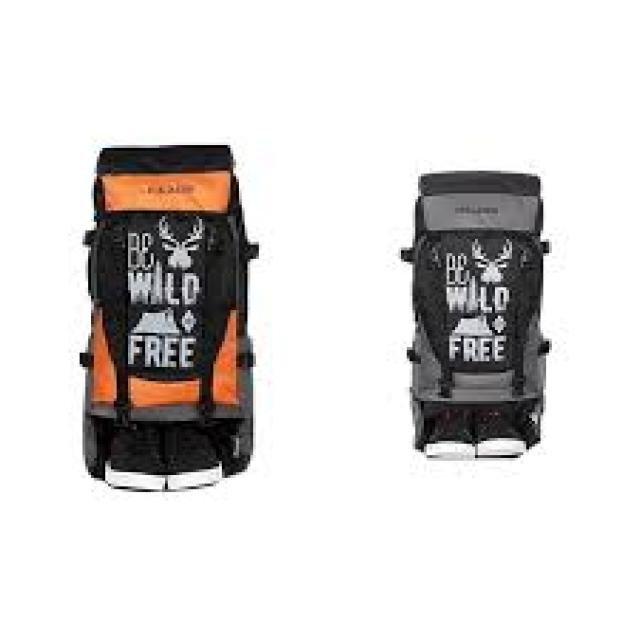backpack: (78, 143, 260, 493), (399, 169, 553, 459)
